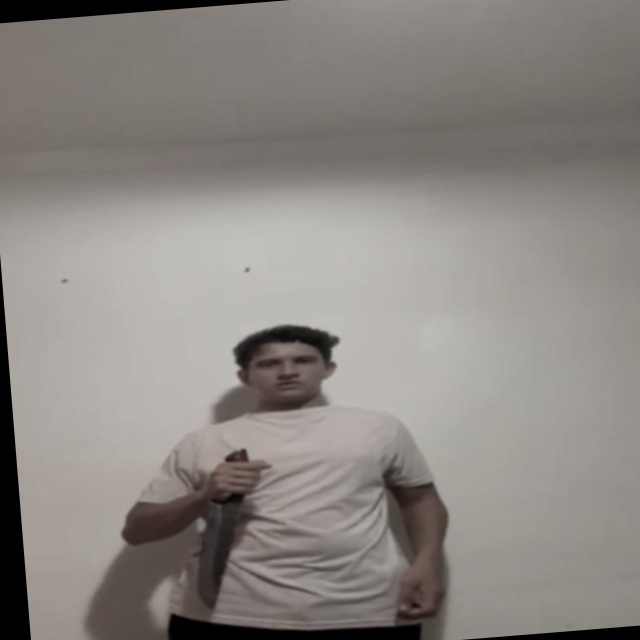Sharp-Object: (191, 499, 252, 612)
